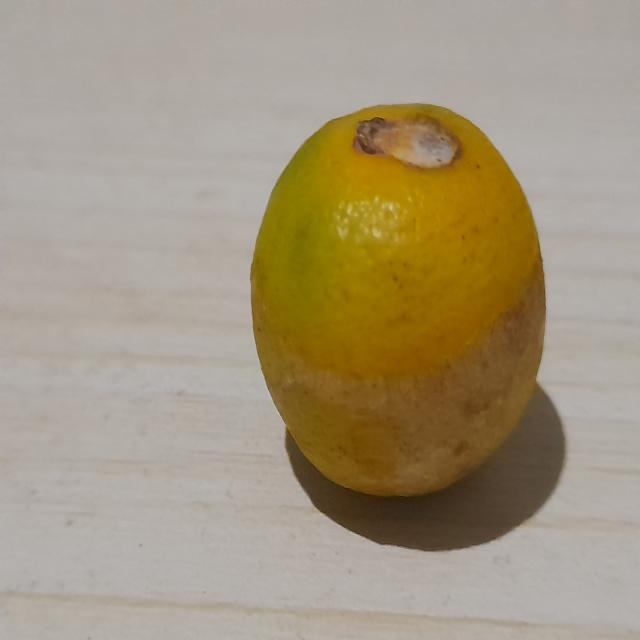greening: (244, 92, 554, 514)
